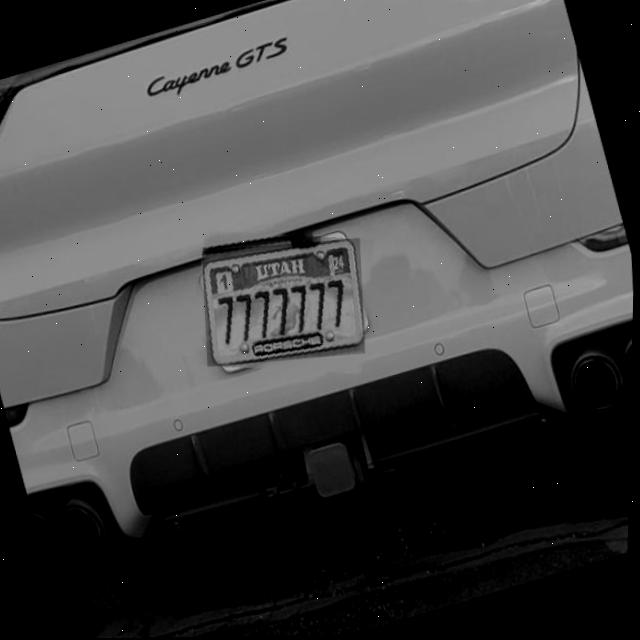LicensePlate: (203, 239, 366, 366)
